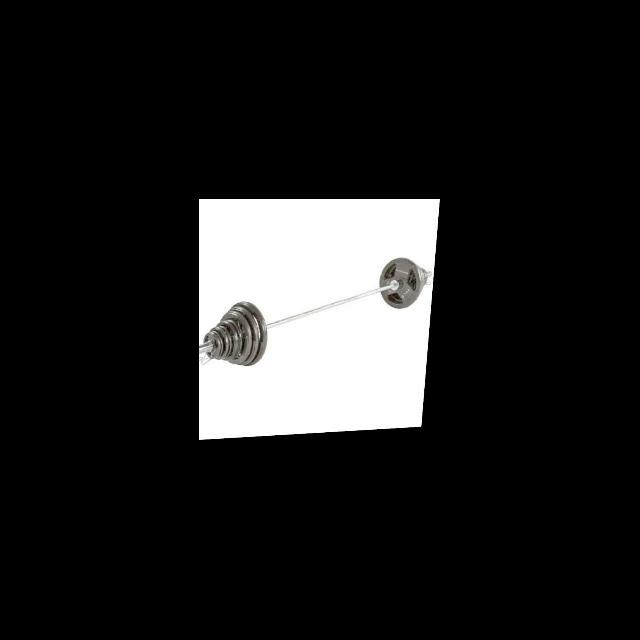barbell: (199, 305, 256, 373)
